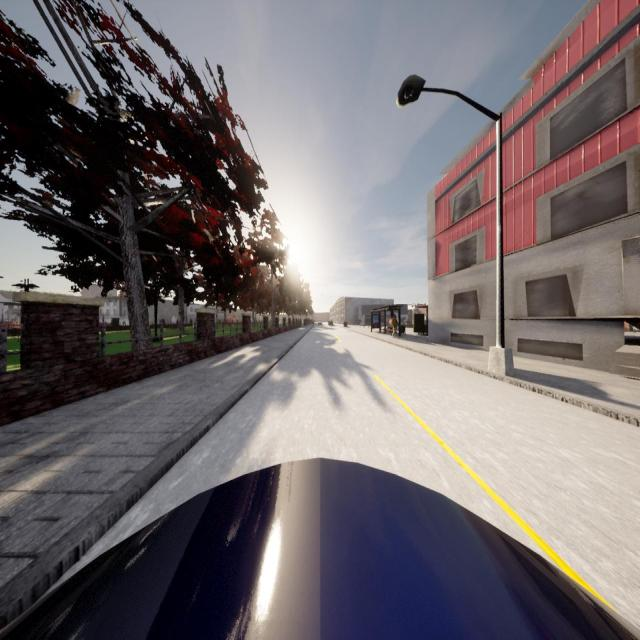Pedestrian: (391, 314, 398, 339)
Vehicle: (0, 461, 640, 640), (317, 320, 323, 326), (328, 319, 333, 326), (343, 321, 348, 327)
